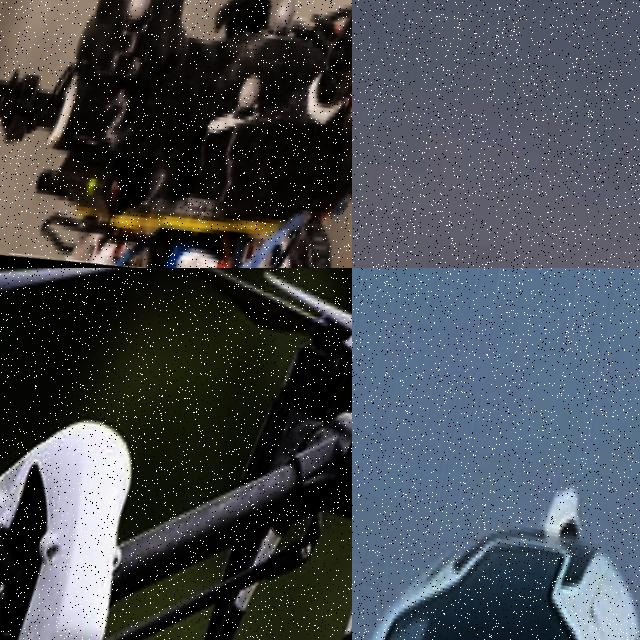drone: (0, 268, 352, 640), (0, 0, 352, 268)
